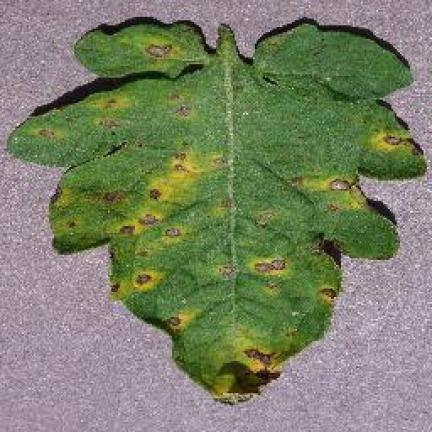leaf: (132, 138, 143, 147), (285, 329, 295, 336)
